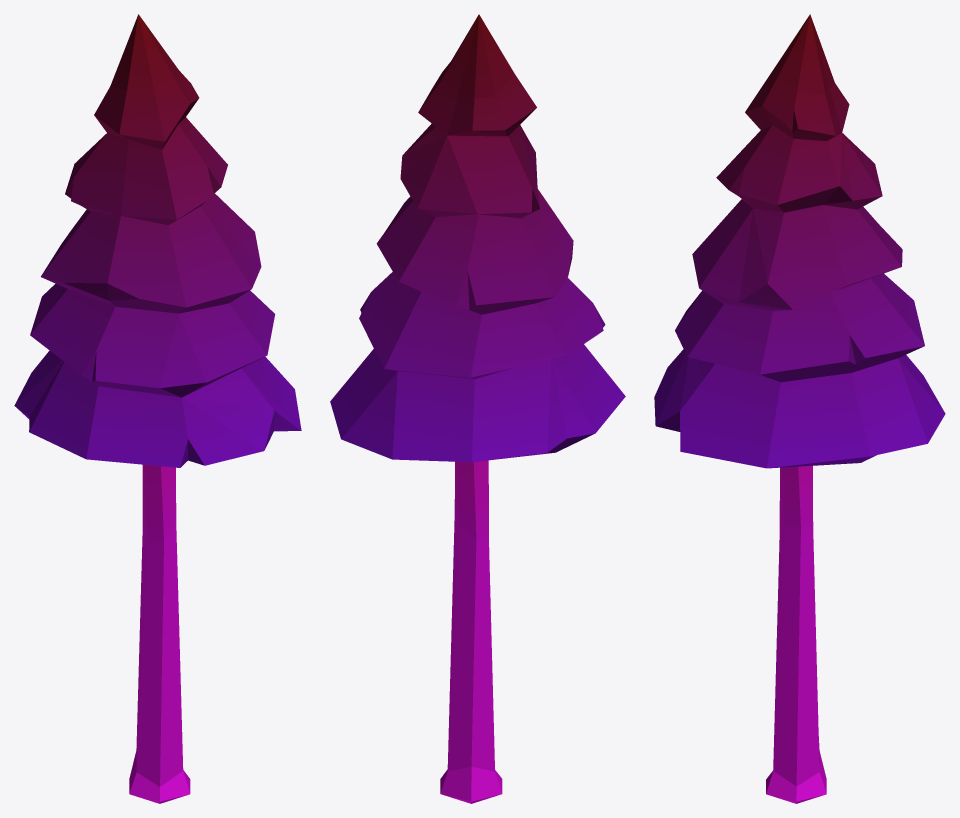
File: synty-tree-polypine-02.gltf
The picture shows the model from 3 angles, left to right: view 1: azimuth 30°, elevation 25°; view 2: azimuth 150°, elevation 25°; view 3: azimuth 270°, elevation 25°; orthographic projection. The views are drawn at different scales.
Visible parts, largest first — view 1: SM_Tree_PolyPine_02; view 2: SM_Tree_PolyPine_02; view 3: SM_Tree_PolyPine_02.
Boxes of the visible parts, x1=… form: SM_Tree_PolyPine_02: x1=14, y1=14, x2=301, y2=803; SM_Tree_PolyPine_02: x1=330, y1=14, x2=625, y2=803; SM_Tree_PolyPine_02: x1=654, y1=14, x2=945, y2=803.
Size of the model in its own units: 1.48 by 4.51 by 1.52.
